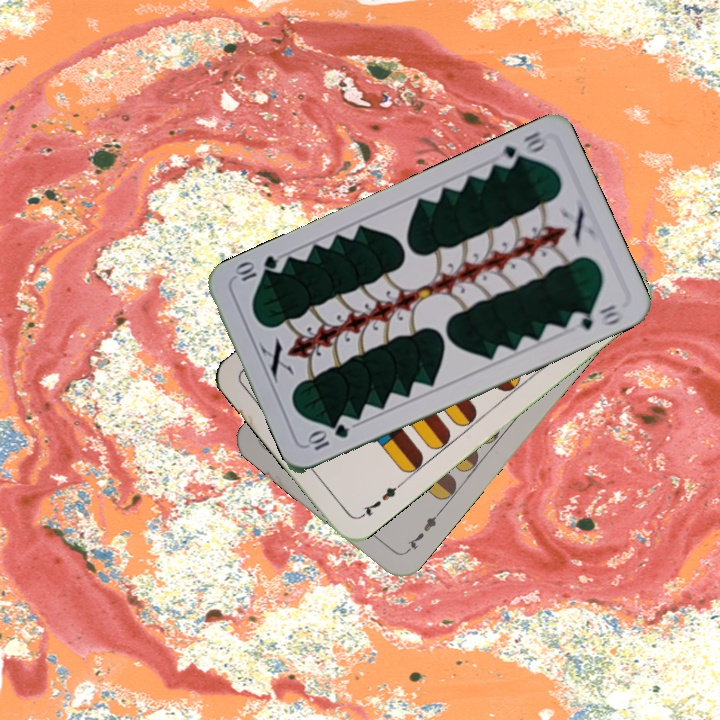E7: (399, 508, 443, 557), (355, 479, 405, 521)
G10: (496, 127, 550, 171), (303, 420, 352, 453)
